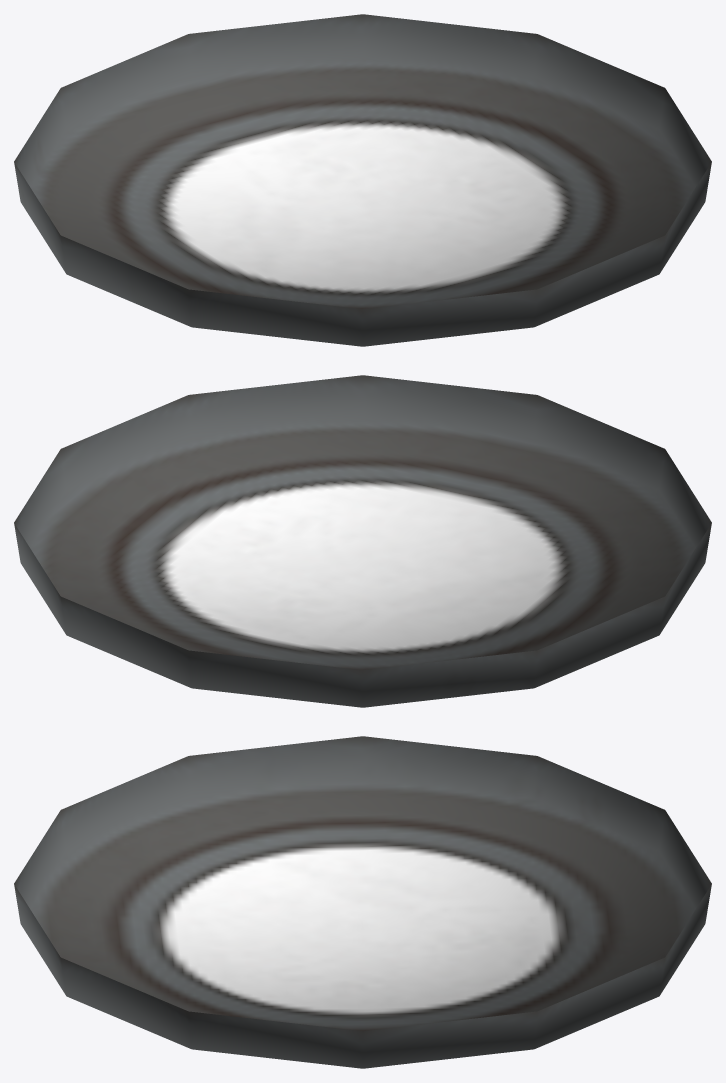
The model's file is b_com_deng_01.fbx.
The picture shows the model from 3 angles, top to bottom: view 1: azimuth 30°, elevation 25°; view 2: azimuth 150°, elevation 25°; view 3: azimuth 270°, elevation 25°; orthographic projection.
Parts seen in each view (by area): view 1: b_com_deng_01; view 2: b_com_deng_01; view 3: b_com_deng_01.
Boxes of the visible parts, x1,y1,x2,y2 form: b_com_deng_01: (14,14,711,346); b_com_deng_01: (14,375,711,707); b_com_deng_01: (14,736,711,1068).
Size of the model in its own units: 8.98 by 0.7698 by 8.98.
